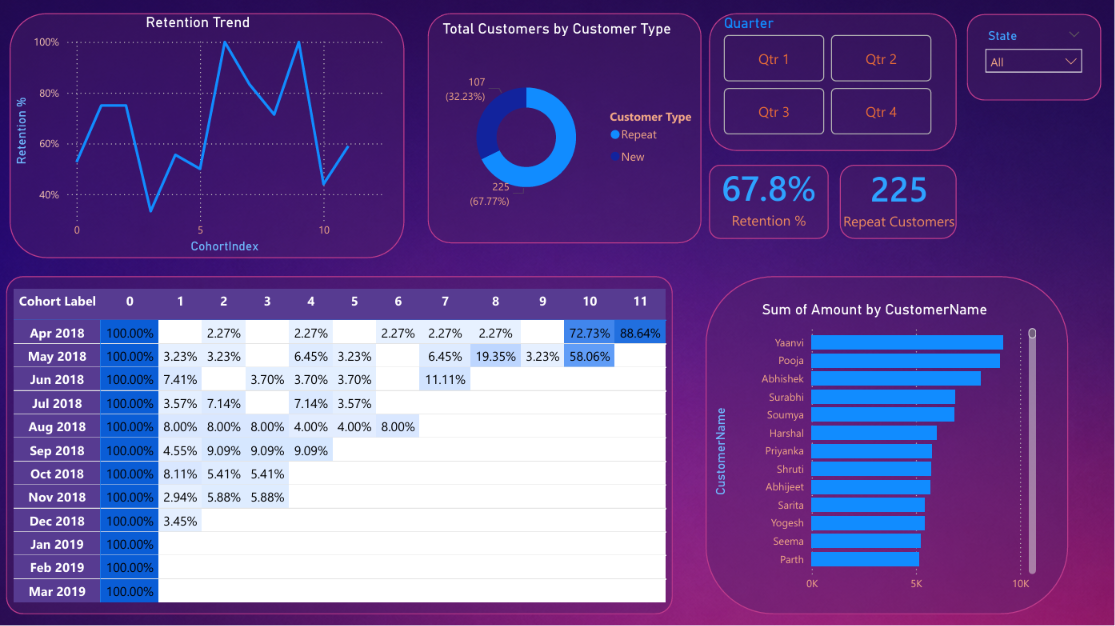

Layout of this report page (visuals, bound fields, positions):
{"tool":"powerbi","page":{"name":" Page 2","canvas":[1280,720],"ordinal":1},"visuals":[{"type":"shape","box":[7.2,318.5,764.9,388.5],"z":0},{"type":"shape","box":[11.2,17.4,453.1,280.5],"z":1000},{"type":"shape","box":[1109.9,18.1,154.4,98.9],"z":2000},{"type":"shape","box":[963.9,190.6,133.9,85.7],"z":3000},{"type":"shape","box":[809.5,318.5,416.2,388.5],"z":4000},{"type":"shape","box":[814.3,190.6,136.3,85.7],"z":5000},{"type":"shape","box":[814.3,16.9,283.5,158],"z":6000},{"type":"shape","box":[491,16.9,313.7,264.2],"z":7000},{"type":"cardVisual","fields":{"Data":["CleanedData.Repeat Customers"]},"box":[936.2,172.5,191.8,109.8],"z":8000},{"type":"cardVisual","fields":{"Data":["CleanedData.Retention %"]},"box":[784.2,172.5,196.6,108.6],"z":9000},{"type":"donutChart","fields":{"Y":["CleanedData.Total Customers"],"Category":["CleanedData.Customer Type"]},"box":[503.1,24.1,301.6,252.1],"z":10000},{"type":"lineChart","title":"Retention Trend","fields":{"Category":["CleanedData.CohortIndex"],"Y":["CleanedData.Retention %"]},"box":[10.9,16.9,431.9,281.1],"z":11000},{"type":"barChart","fields":{"Category":["CleanedData.CustomerName"],"Y":["Sum(CleanedData.Amount)"]},"box":[814.3,347.5,380,342.6],"z":12000},{"type":"slicer","fields":{"Values":["CleanedData.State"]},"box":[1120.8,30.2,131.5,74.8],"z":14000},{"type":"advancedSlicerVisual","fields":{"Values":["CleanedData.Order Date.Variation.Date Hierarchy.Quarter"]},"box":[826.4,18.1,248.5,143.6],"z":15000},{"type":"pivotTable","fields":{"Rows":["CleanedData.Cohort Label"],"Columns":["CleanedData.Cohort_Index"],"Values":["CleanedData.Retention%"]},"box":[10.9,329.4,774.5,377.6],"z":16000}]}

Visuals, with their boxes in screenshot pixels (x1, y1, x2, y2), scaled from the page's 1280x720 canvas onto the 1115x626 screenshot:
shape: [6,277,673,615]
shape: [10,15,404,259]
shape: [967,16,1101,102]
shape: [840,166,956,240]
shape: [705,277,1068,615]
shape: [709,166,828,240]
shape: [709,15,956,152]
shape: [428,15,701,244]
cardVisual - CleanedData.Repeat Customers: [816,150,983,245]
cardVisual - CleanedData.Retention %: [683,150,854,244]
donutChart - CleanedData.Total Customers x CleanedData.Customer Type: [438,21,701,240]
"Retention Trend" lineChart: [9,15,386,259]
barChart - CleanedData.CustomerName x Sum(CleanedData.Amount): [709,302,1040,600]
slicer - CleanedData.State: [976,26,1091,91]
advancedSlicerVisual - CleanedData.Order Date.Variation.Date Hierarchy.Quarter: [720,16,936,141]
pivotTable - CleanedData.Cohort Label x CleanedData.Cohort_Index: [9,286,684,615]
